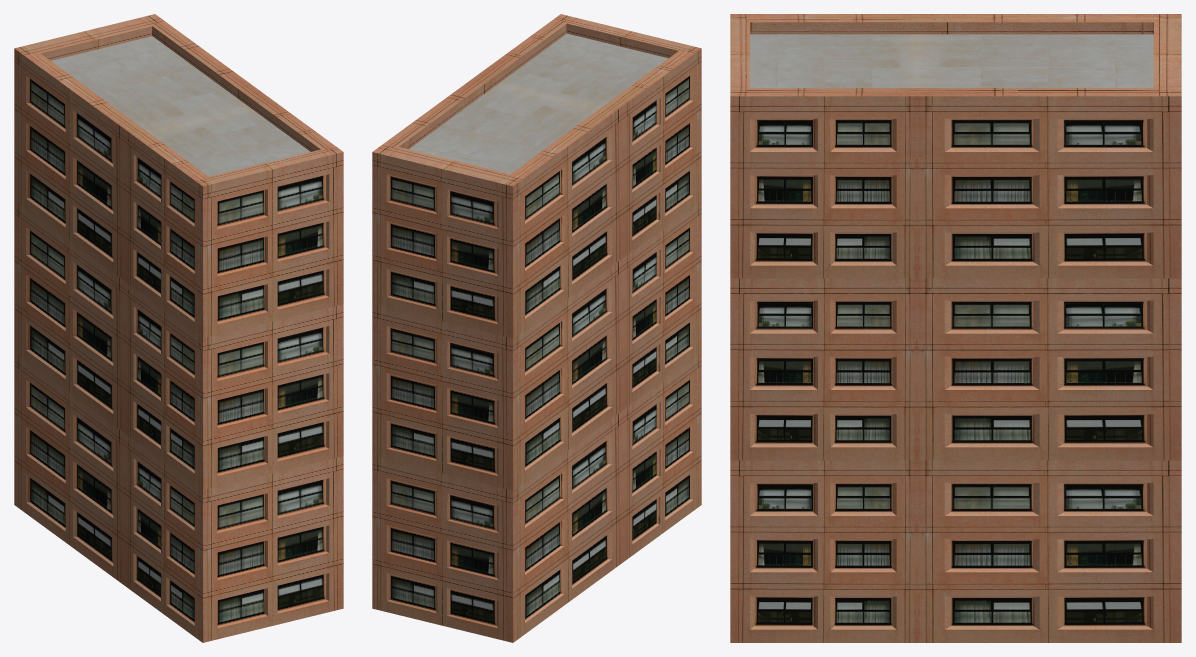
The model's file is house24.FBX.
3 renders of one model, left to right at view 1: azimuth 30°, elevation 25°; view 2: azimuth 150°, elevation 25°; view 3: azimuth 270°, elevation 25°, orthographic. The views are drawn at different scales.
Parts seen in each view (by area): view 1: Box002; view 2: Box002; view 3: Box002.
Boxes of the visible parts, <box> form: Box002: <box>14,14,343,642</box>; Box002: <box>372,14,701,642</box>; Box002: <box>730,14,1181,642</box>.
Bounding box in the file's own units: 73.44 × 227 × 170.
